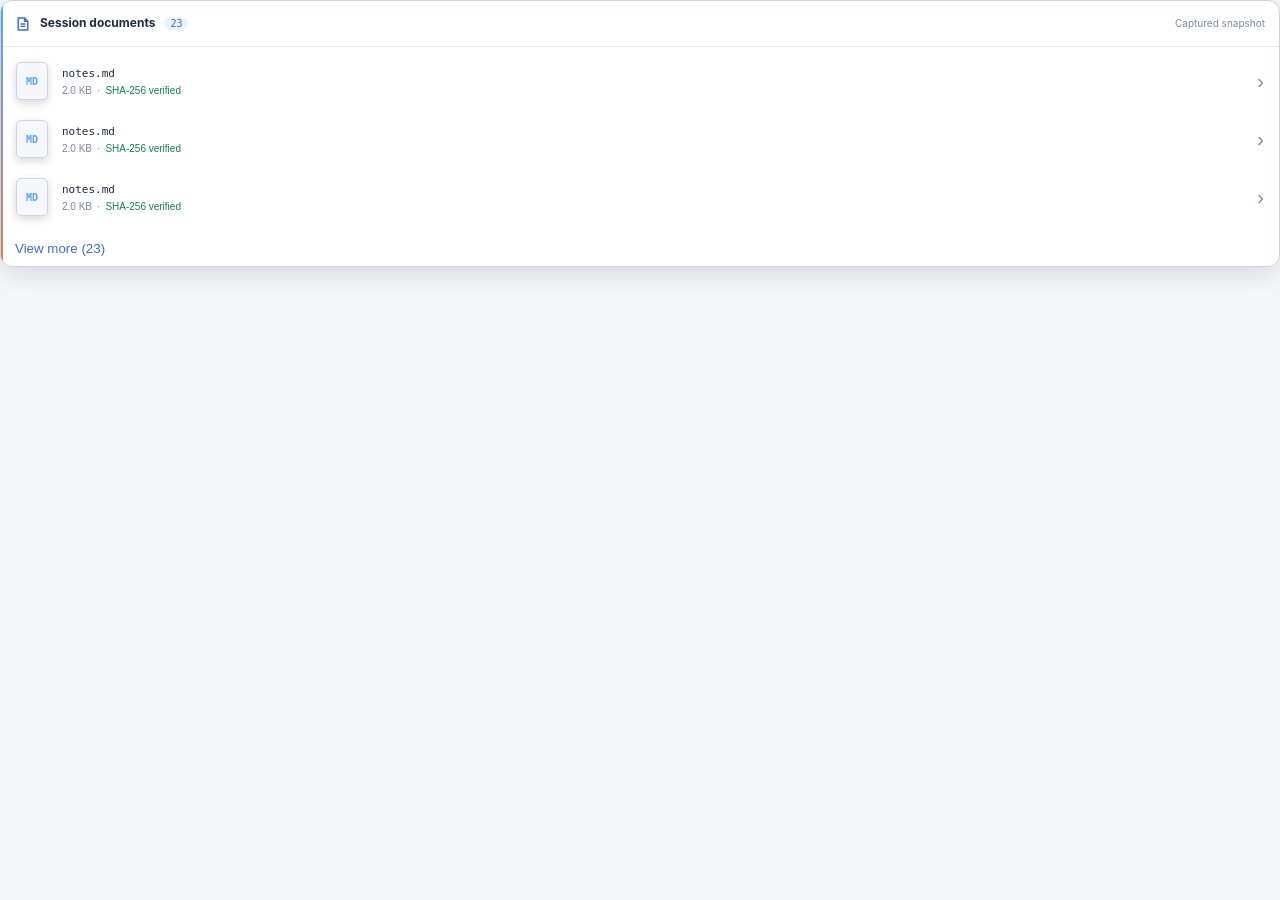
Test: SessionDocumentShelf › keeps keyboard focus in the dialog when the final page disables Next
The image size is (1280, 900).
Click the button with test id "documents-more" at (60, 248), box [1, 231, 119, 266]
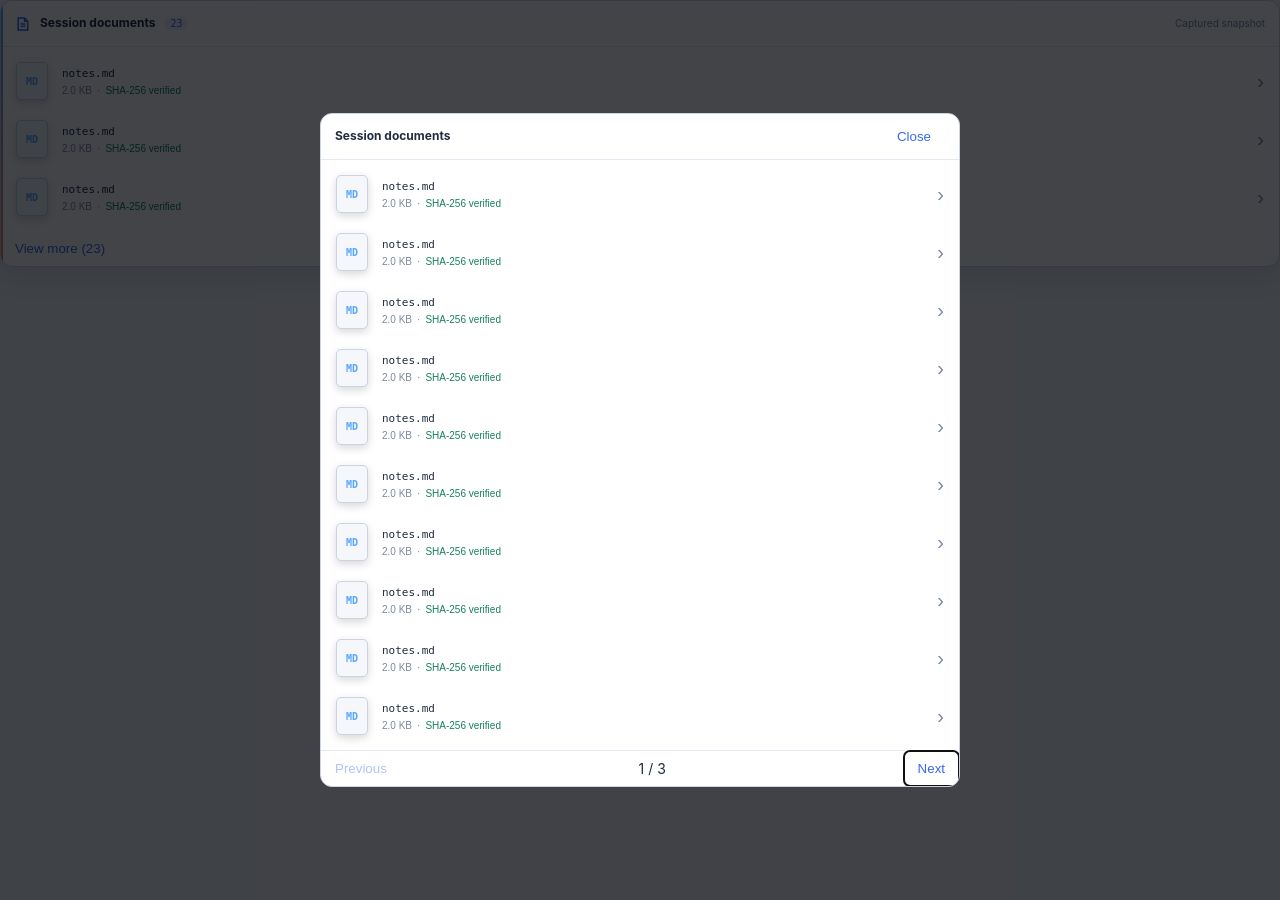
Click the button with test id "documents-next" at (931, 768), box [904, 751, 959, 786]
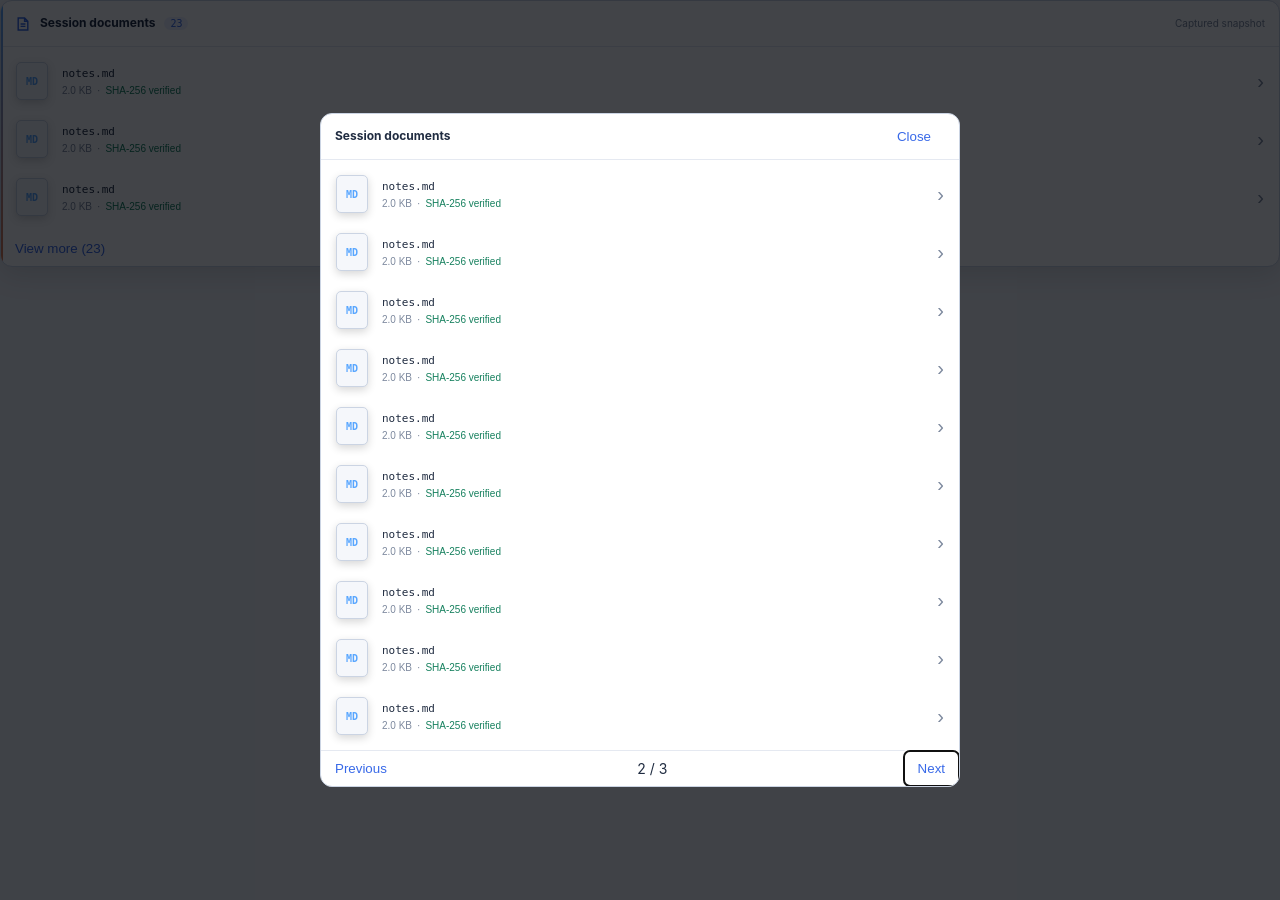
Click the button with test id "documents-next" at (931, 768), box [904, 751, 959, 786]
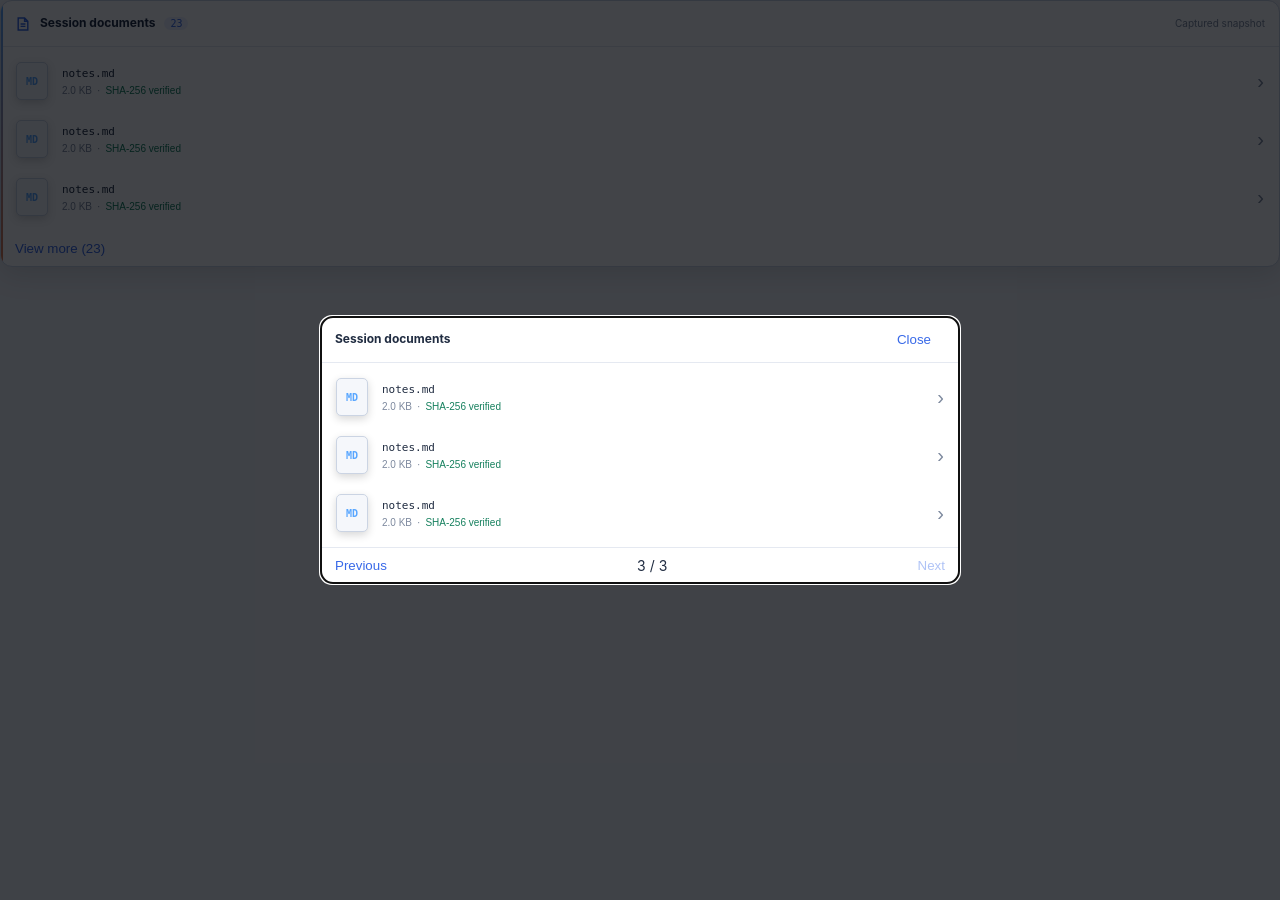
Check: the button with test id "documents-next" is disabled, box [904, 548, 959, 583]
Press Escape in the dialog, box [320, 316, 960, 584]
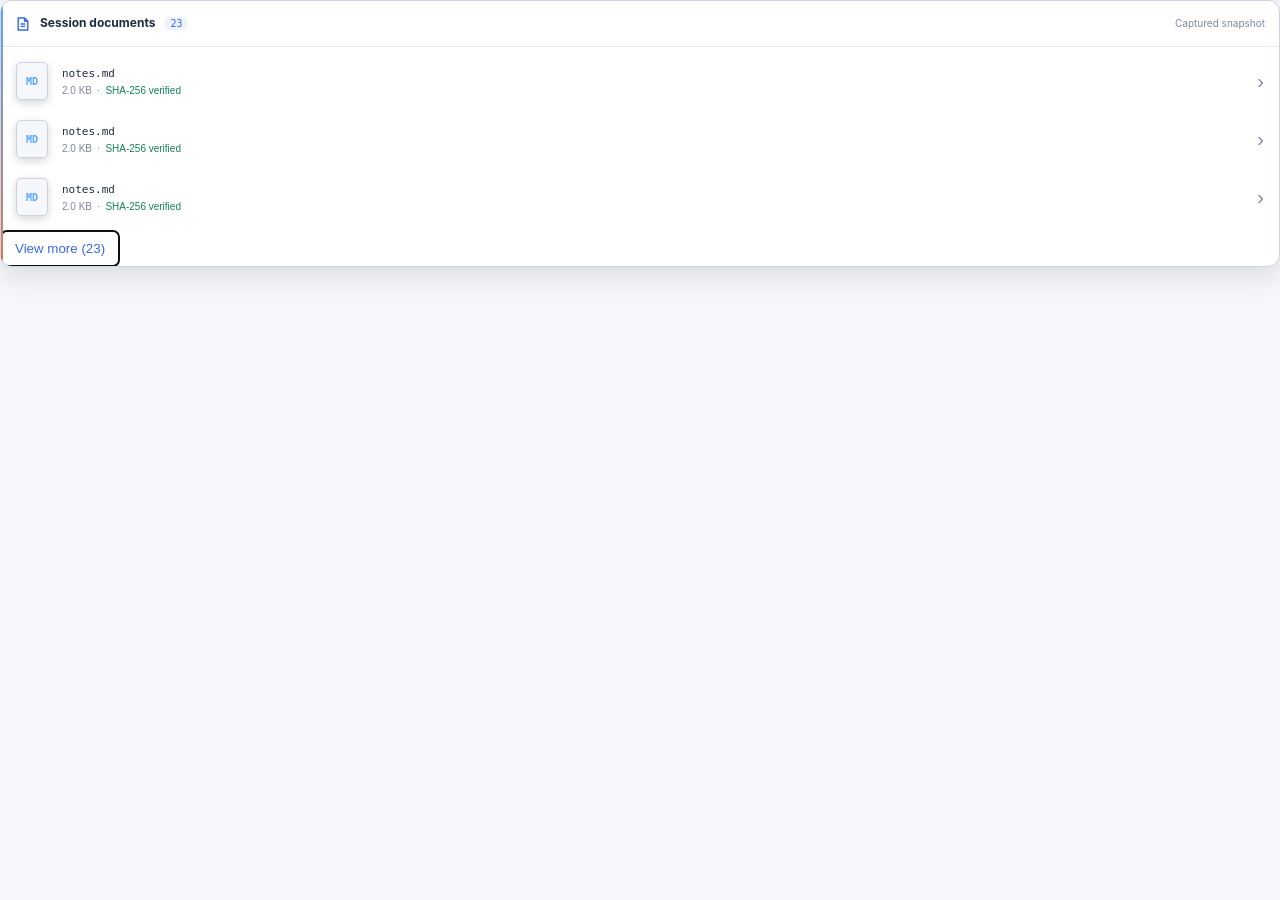
Check: the dialog is gone
